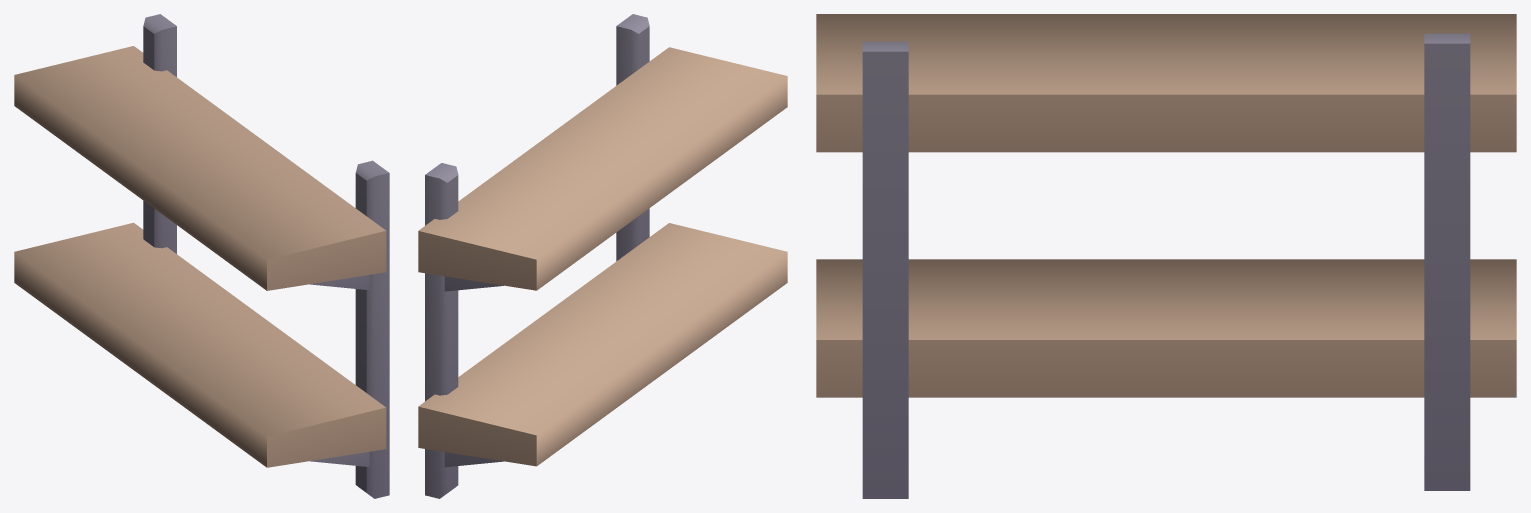
File: shelf-rail-long (%wall).glb
3 views of the same model, side by side, from view 1: azimuth 30°, elevation 25°; view 2: azimuth 150°, elevation 25°; view 3: azimuth 270°, elevation 25° (orthographic). The views are drawn at different scales.
Parts seen in each view (by area): view 1: shelf-rail-long (%wall); view 2: shelf-rail-long (%wall); view 3: shelf-rail-long (%wall).
Boxes of the visible parts, x1,y1,x2,y2 form: shelf-rail-long (%wall): (14,14,389,498); shelf-rail-long (%wall): (418,14,787,498); shelf-rail-long (%wall): (816,14,1516,498).
Size of the model in its own units: 0.35 by 0.7771 by 1.1.
